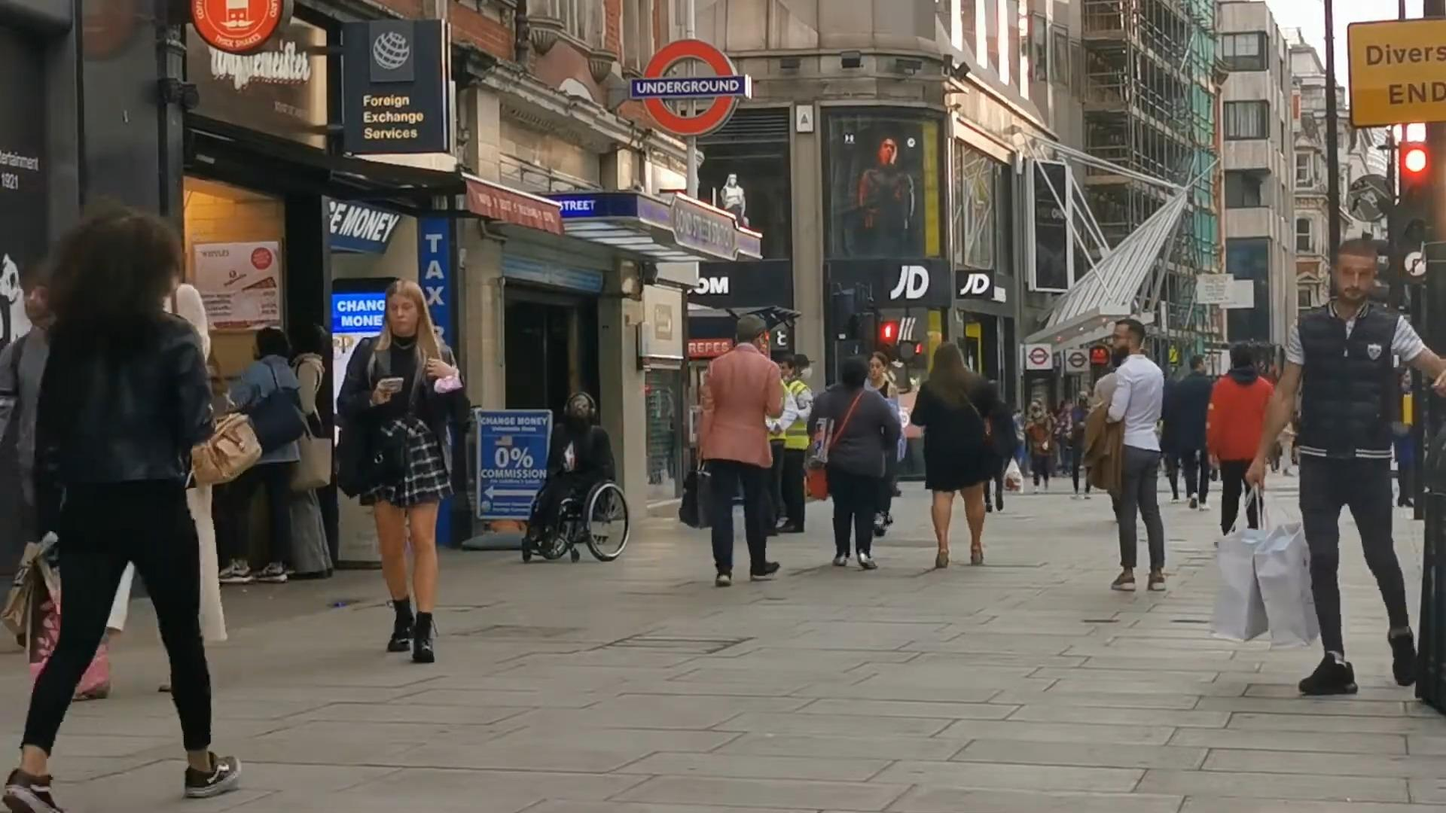no-helmet: (49, 211, 183, 325), (1331, 238, 1379, 306), (382, 279, 432, 336), (1111, 319, 1146, 368), (932, 341, 970, 376), (735, 314, 766, 352), (841, 355, 869, 387), (1229, 343, 1253, 370), (869, 351, 889, 381)
